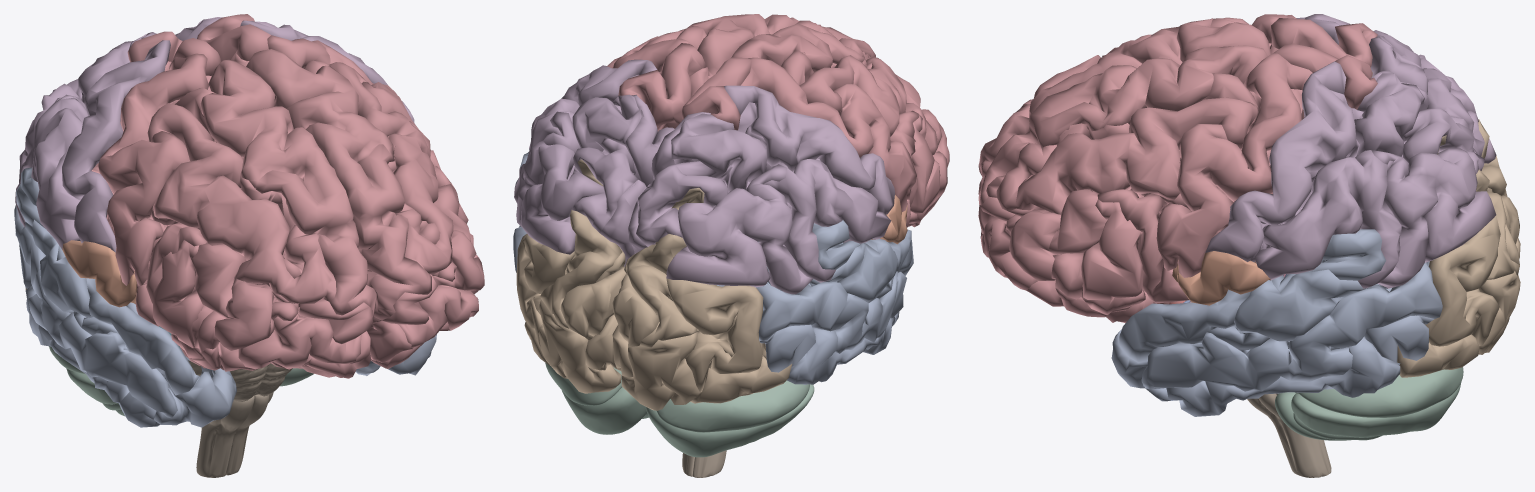
File: brain.226143c9.glb
The picture shows the model from 3 angles, left to right: view 1: azimuth 30°, elevation 25°; view 2: azimuth 150°, elevation 25°; view 3: azimuth 270°, elevation 25°; orthographic projection. The views are drawn at different scales.
Parts seen in each view (by area): view 1: frontal, temporal, parietal, brainstem, insula, cerebellum; view 2: parietal, occipital, frontal, temporal, cerebellum, brainstem, insula; view 3: frontal, parietal, temporal, occipital, cerebellum, insula, brainstem.
Boxes of the visible parts, x1,y1,x2,y2 form: frontal: [91, 14, 484, 378]; temporal: [14, 167, 436, 427]; parietal: [15, 17, 414, 252]; brainstem: [188, 360, 292, 477]; insula: [62, 240, 136, 307]; cerebellum: [49, 346, 313, 416]; parietal: [514, 59, 894, 294]; occipital: [516, 159, 792, 410]; frontal: [607, 14, 949, 227]; temporal: [513, 148, 913, 384]; cerebellum: [545, 363, 814, 457]; brainstem: [682, 450, 726, 477]; insula: [871, 195, 907, 244]; frontal: [978, 14, 1377, 322]; parietal: [1205, 14, 1496, 288]; temporal: [1111, 229, 1442, 416]; occipital: [1397, 119, 1520, 377]; cerebellum: [1275, 367, 1463, 440]; insula: [1172, 251, 1270, 305]; brainstem: [1247, 393, 1331, 477].
Bounding box in the file's own units: 1.68 × 1.96 × 2.2.
